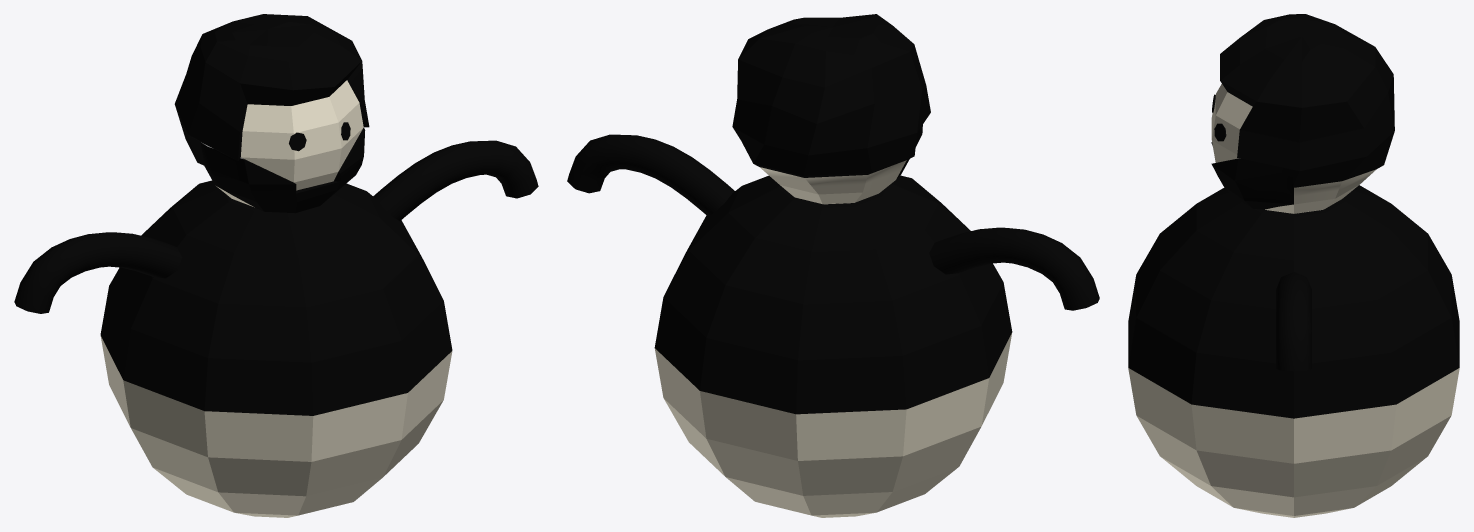
File: DollieExport.fbx
3 views of the same model, side by side, from view 1: azimuth 30°, elevation 25°; view 2: azimuth 150°, elevation 25°; view 3: azimuth 270°, elevation 25° (orthographic). The views are drawn at different scales.
Visible parts, largest first — view 1: Chawlie; view 2: Chawlie; view 3: Chawlie.
Part boxes in pixels (x1,y1,x2,y2): Chawlie: (14, 14, 538, 517); Chawlie: (567, 14, 1099, 517); Chawlie: (1128, 14, 1459, 517).
Bounding box in the file's own units: 0.3265 × 0.2833 × 0.183.
